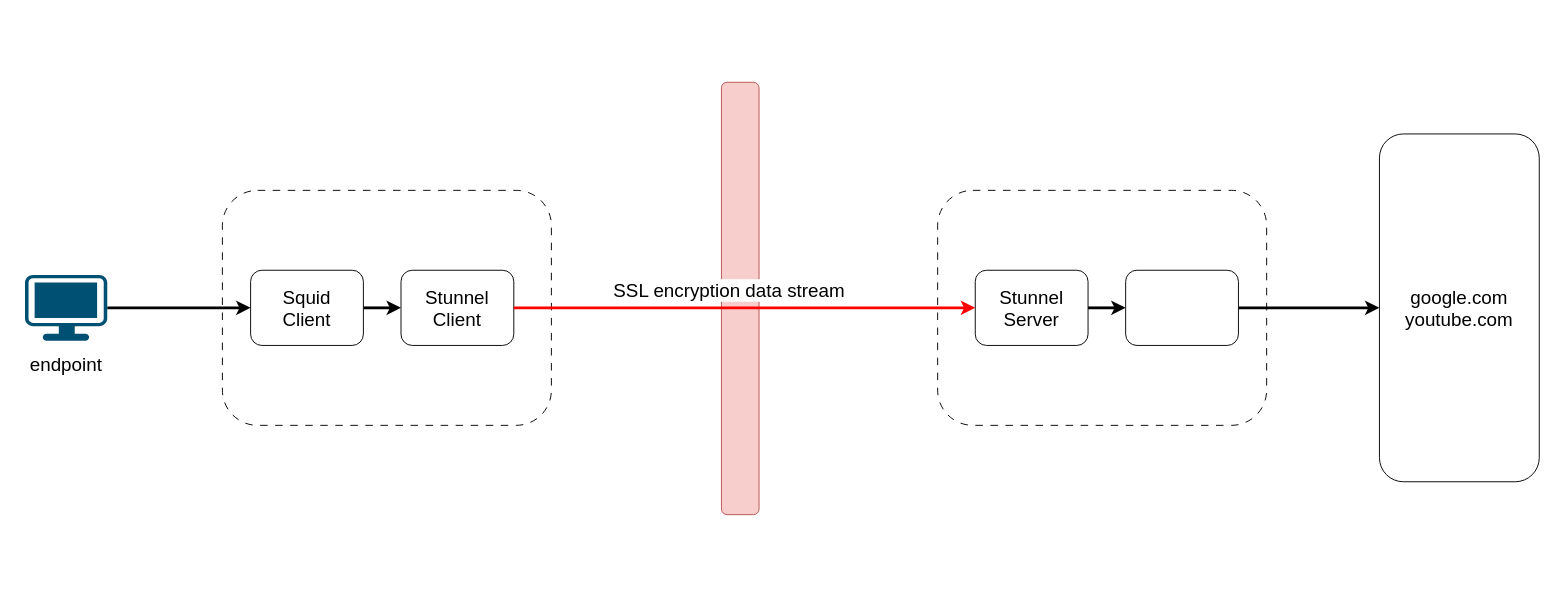
Image size: 1556x596. Some labels were removed from this diagram. The shapes that lost their labels are listed below. From the top down, each one's centre as x and y in pixels, then its label:
(740,298): 防 火 墙
(1181,307): Squid Server
